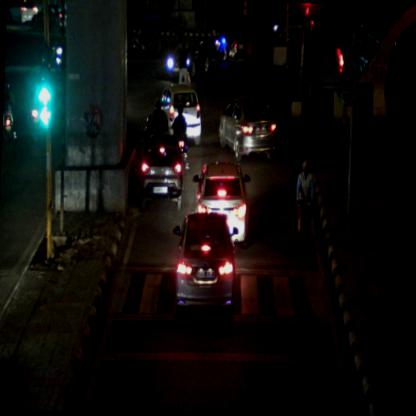car: (171, 210, 239, 319), (201, 160, 250, 248), (219, 93, 278, 160), (142, 134, 186, 208), (167, 84, 204, 148), (166, 38, 212, 84), (30, 4, 66, 34)
motorcycle: (2, 81, 18, 144)
